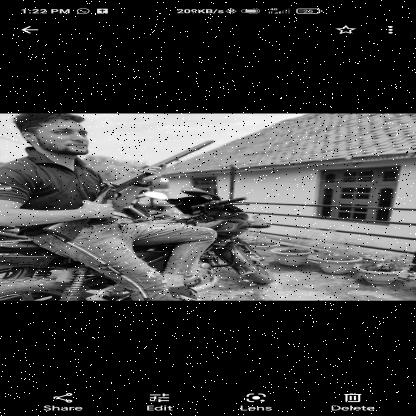rifle: (41, 139, 216, 243)
